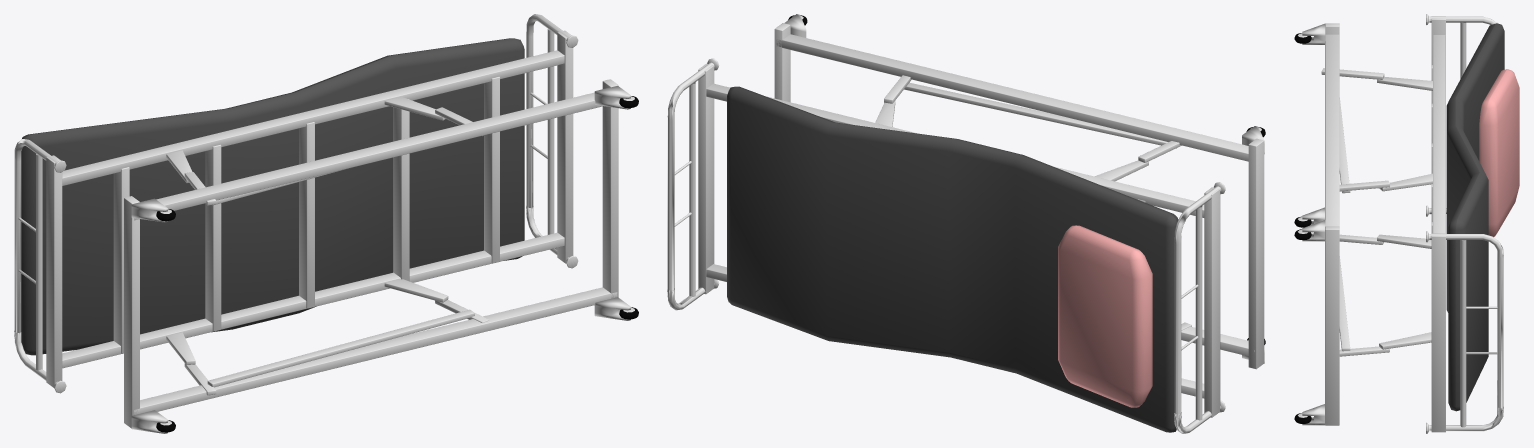
3 renders of one model, left to right at view 1: azimuth 30°, elevation 25°; view 2: azimuth 150°, elevation 25°; view 3: azimuth 270°, elevation 25°, orthographic. The views are drawn at different scales.
Parts seen in each view (by area): view 1: Cube.001; view 2: Cube.001; view 3: Cube.001.
Part boxes in pixels (x1,y1,x2,y2): Cube.001: [14, 14, 638, 433]; Cube.001: [667, 14, 1265, 433]; Cube.001: [1294, 14, 1519, 433].
Bounding box in the file's own units: 215 × 91.11 × 91.93.
